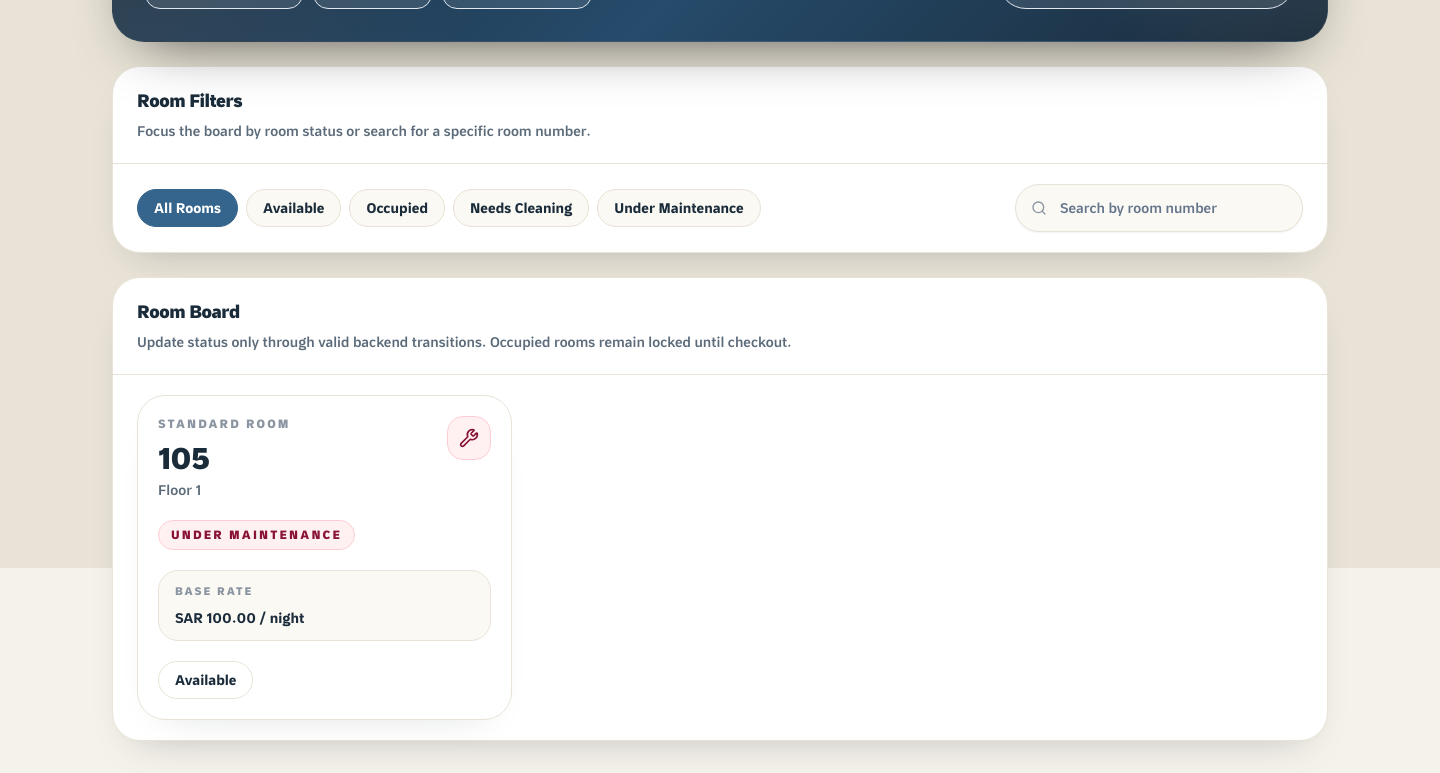
Test case: RoomStatus › updates maintenance rooms to available without opening the service modal
The width and height of the screenshot is (1440, 773).
(page scrolled)
Check: the text "105" is shown, box [158,439,210,477]
Click the button "Available" below "SAR 100.00": point(206, 680) [158,660,253,698]
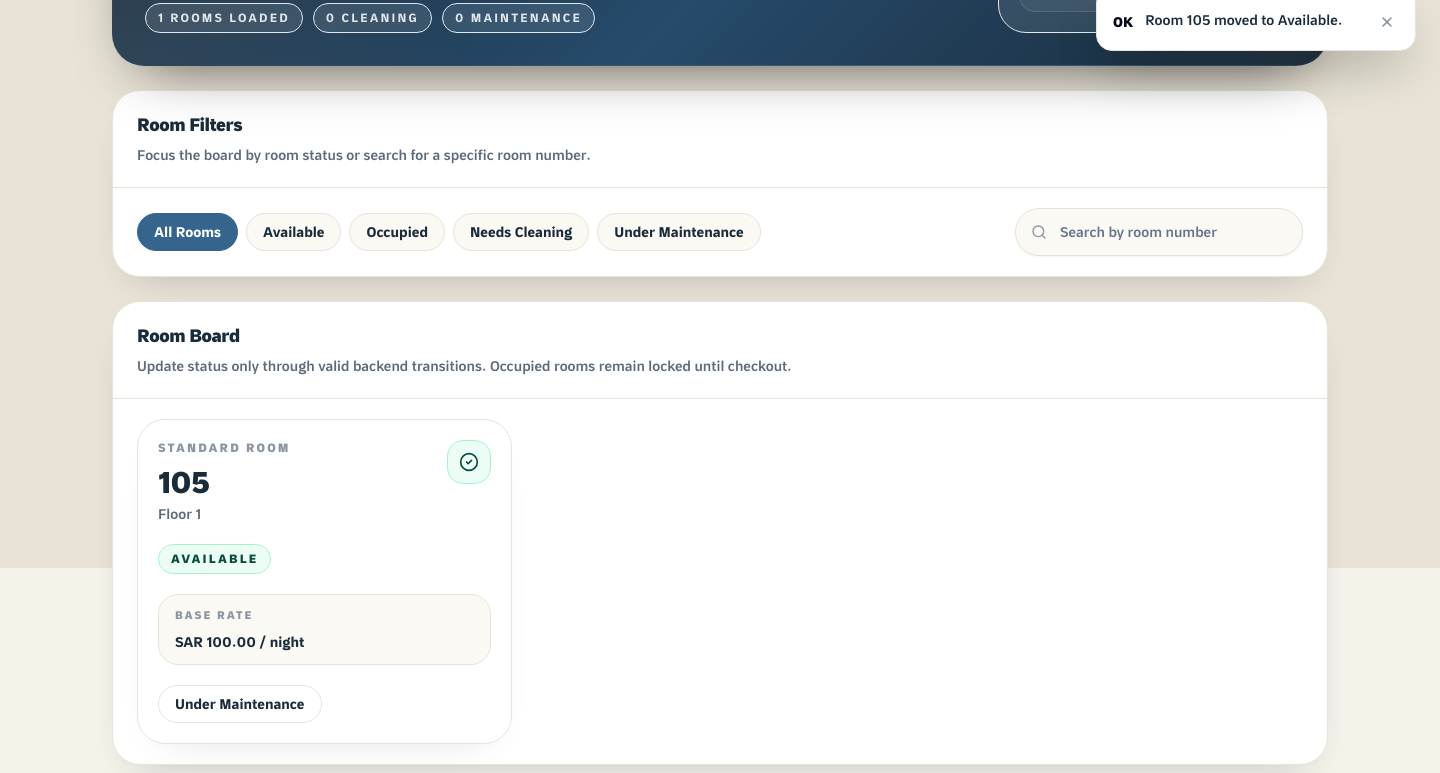
Check: the text "Room 105 moved to Available." is shown, box [1145,10,1363,30]
